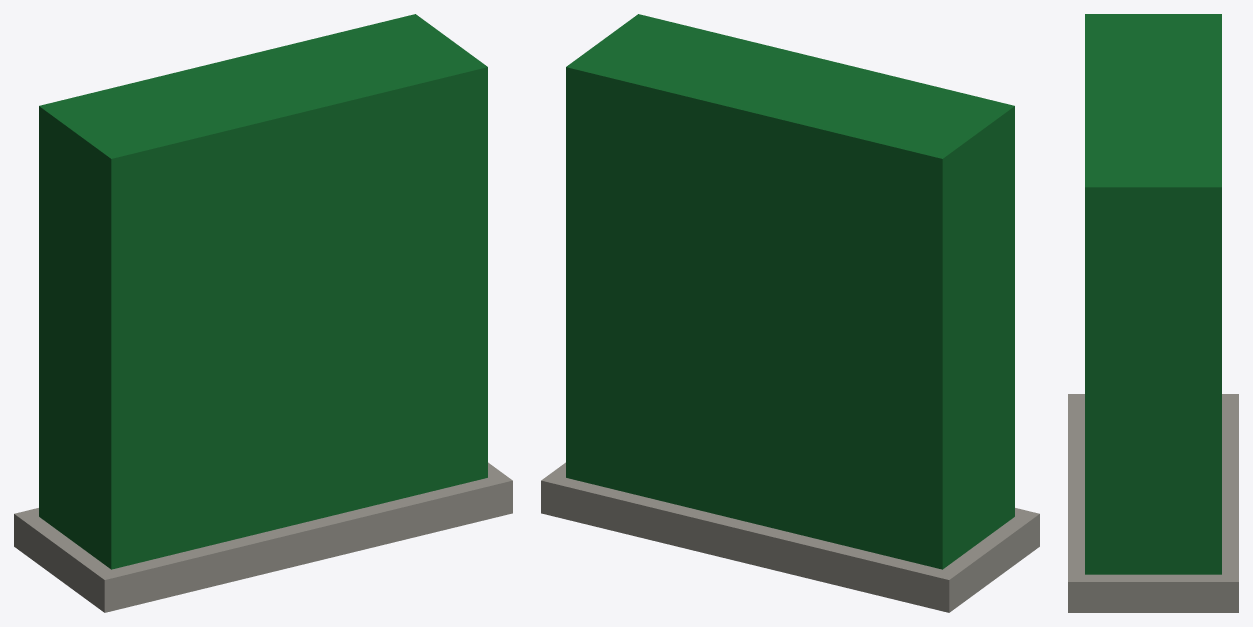
The model's file is street.utility.cabinet.glb.
The picture shows the model from 3 angles, left to right: view 1: azimuth 30°, elevation 25°; view 2: azimuth 150°, elevation 25°; view 3: azimuth 270°, elevation 25°; orthographic projection. The views are drawn at different scales.
Visible parts, largest first — view 1: main__plastic_green, main__concrete; view 2: main__plastic_green, main__concrete; view 3: main__plastic_green, main__concrete.
Part boxes in pixels (x1,y1,x2,y2): main__plastic_green: (39,14,487,569); main__concrete: (14,462,512,612); main__plastic_green: (566,14,1014,569); main__concrete: (541,462,1039,612); main__plastic_green: (1085,14,1221,574); main__concrete: (1068,394,1238,612).
Size of the model in its own units: 1.3 by 1.35 by 0.5.
